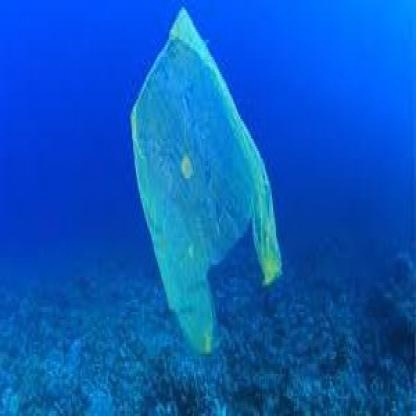pbag: (121, 5, 290, 357)
